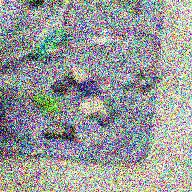러키펜정: (78, 96, 103, 115)
씨엠지세파클러캡슐: (69, 66, 99, 98)
에르도캡슐: (31, 30, 68, 59)
휴티렌정: (32, 94, 63, 114)
